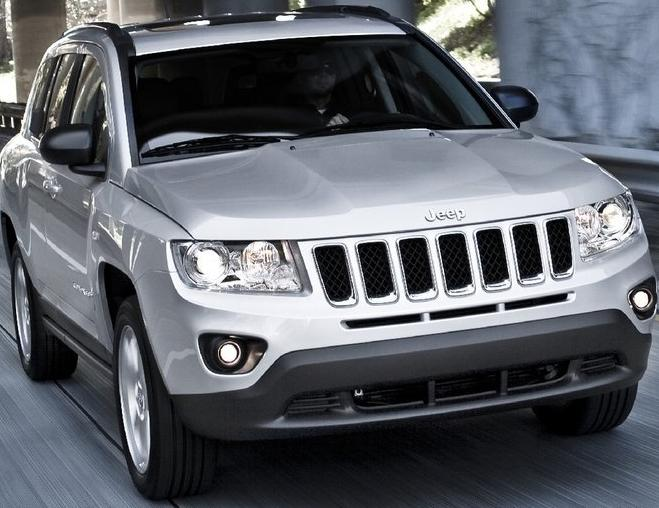front_view: (165, 199, 659, 447)
headlight: (159, 232, 313, 302)
